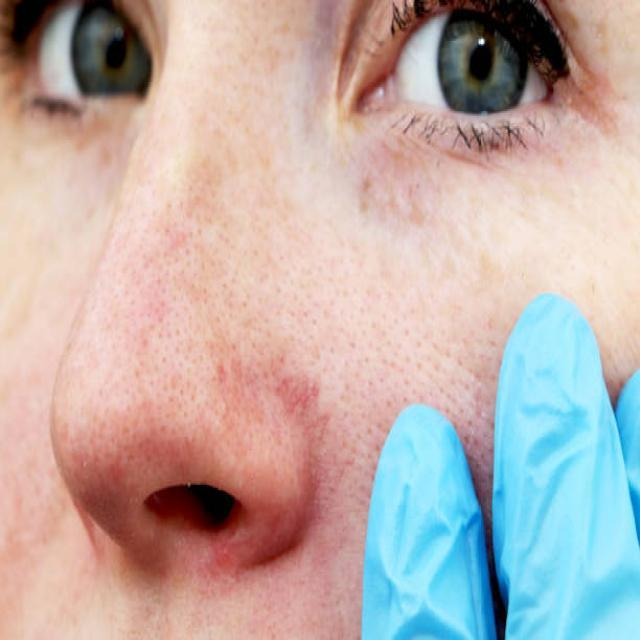dry: (73, 94, 361, 520)
